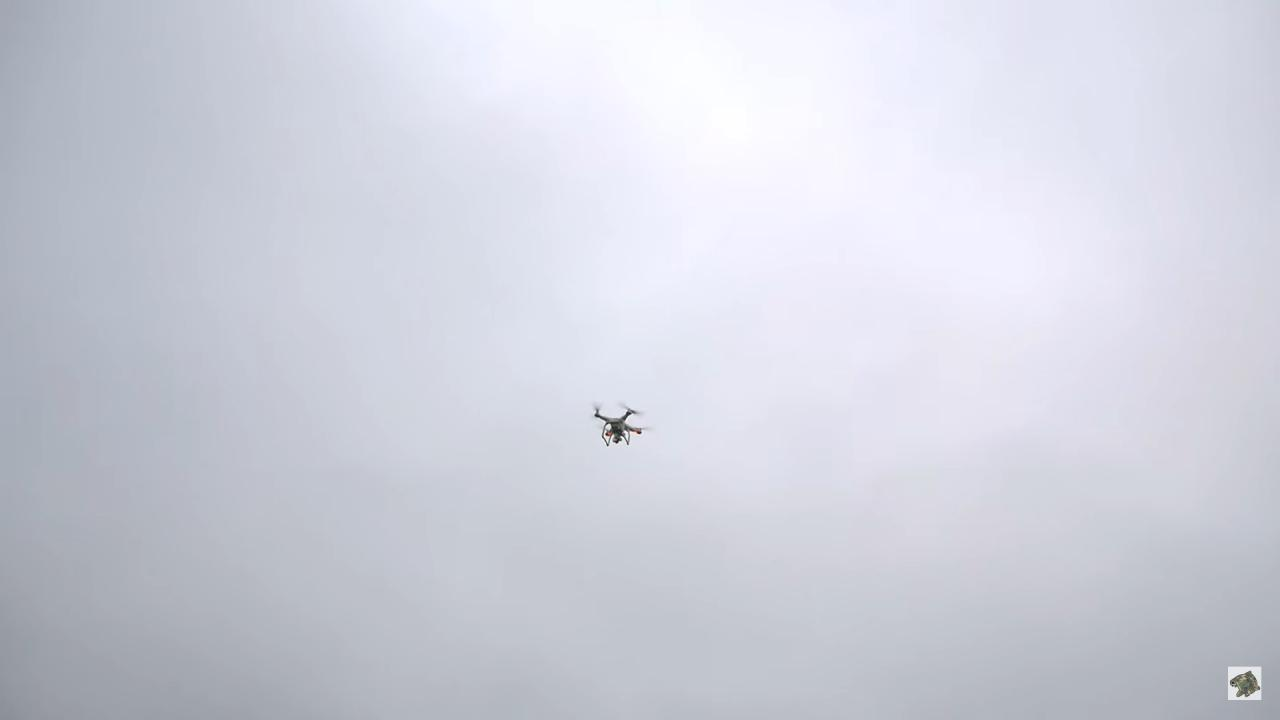Drone: (576, 393, 661, 455)
